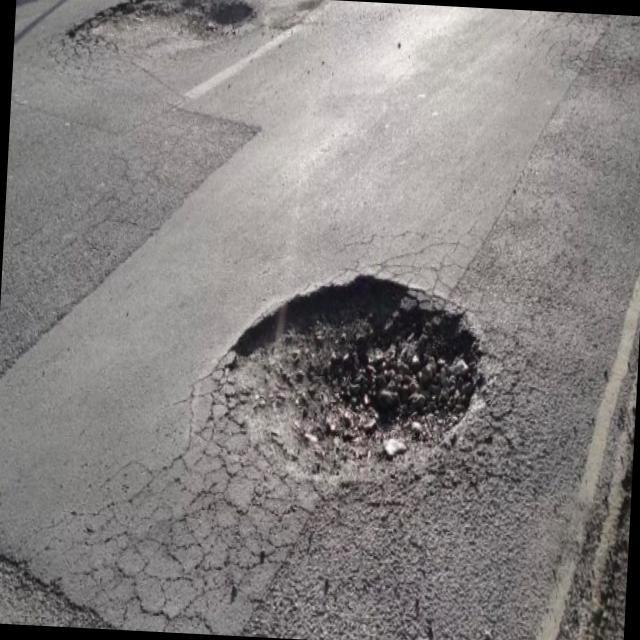Pothole: (215, 252, 492, 494)
